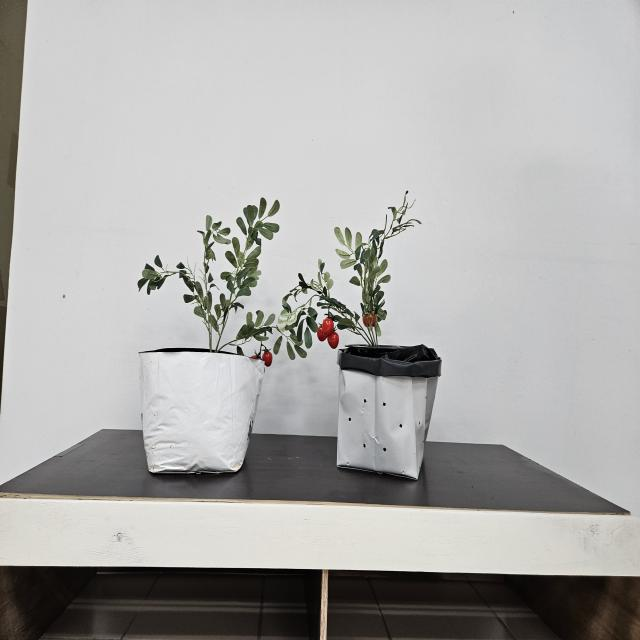Soilbag: (139, 348, 263, 478), (336, 346, 441, 483)
Tomato: (317, 317, 339, 349), (251, 347, 273, 367)
plant: (136, 199, 320, 368), (316, 191, 421, 349)
